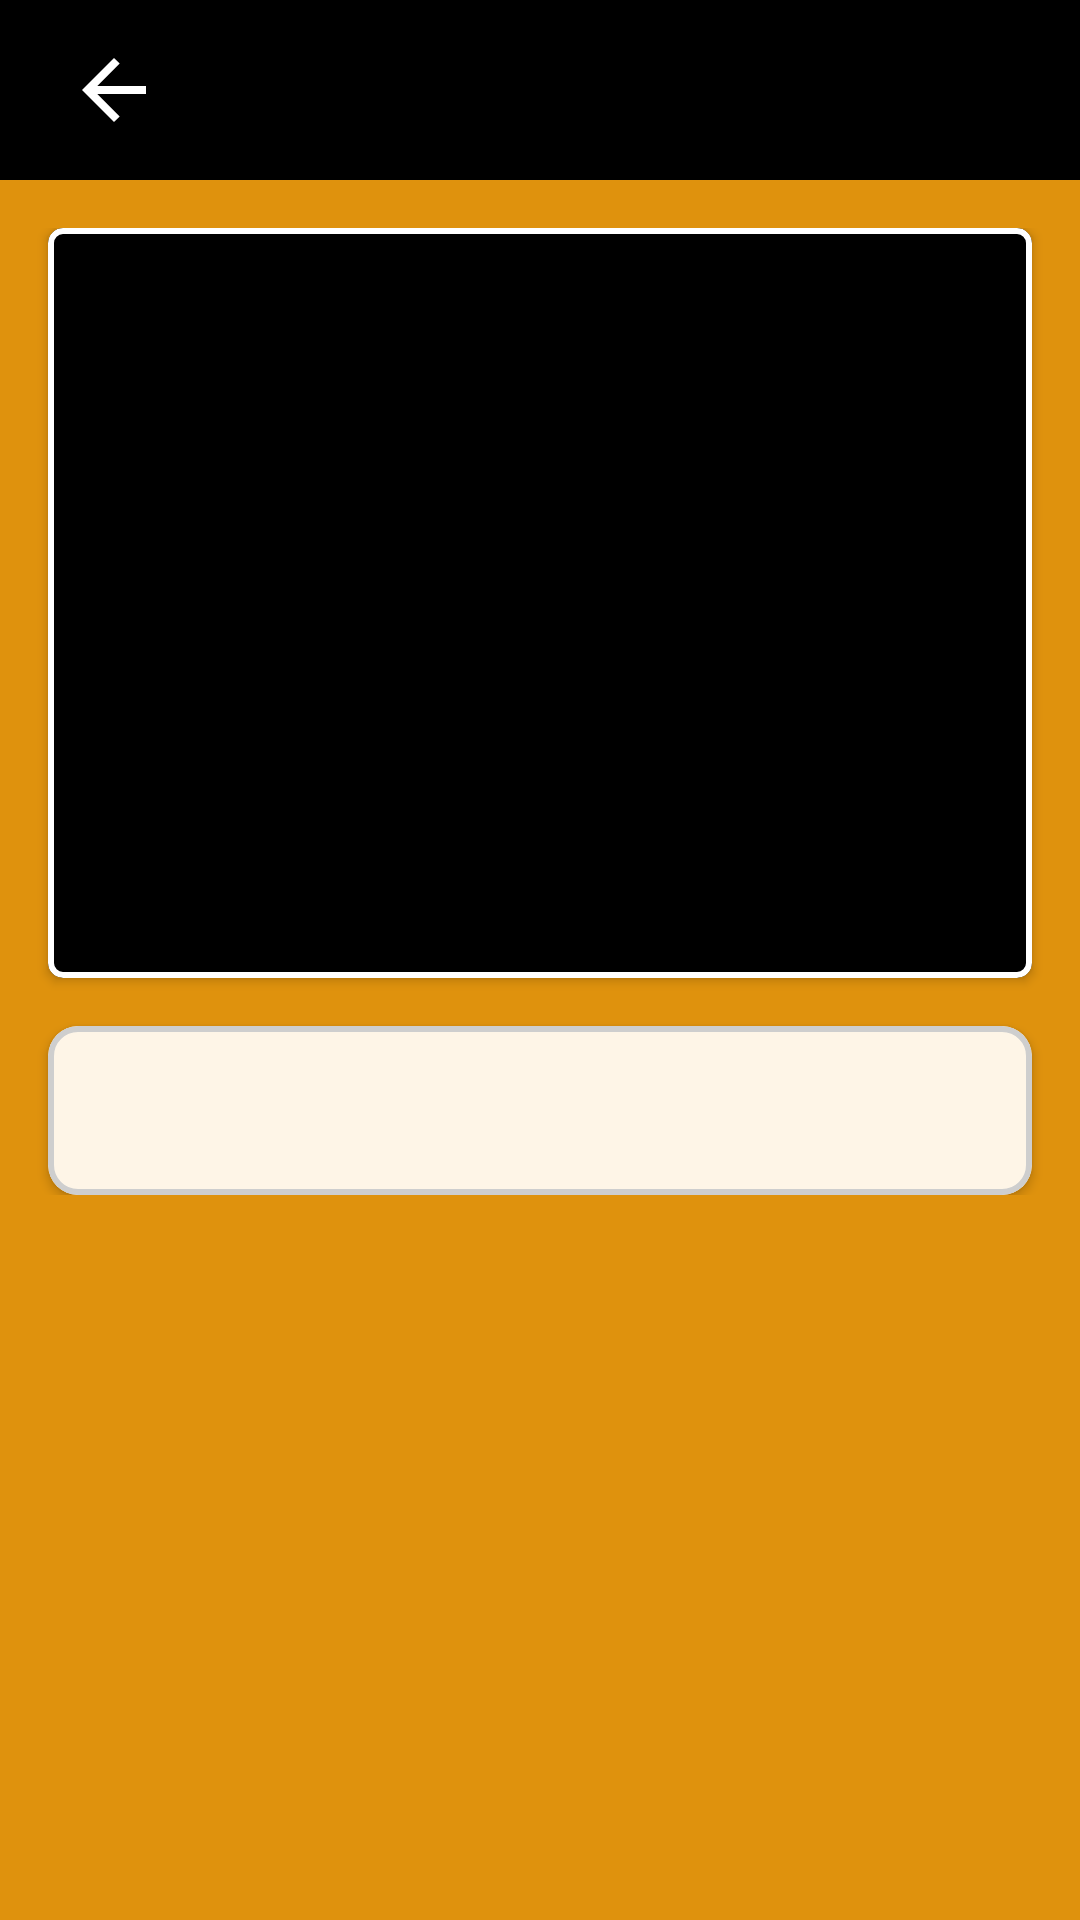

Icon click points for this 1080 × 1920 phone screenshot, format (x,y):
Navigate back: (114,90)
